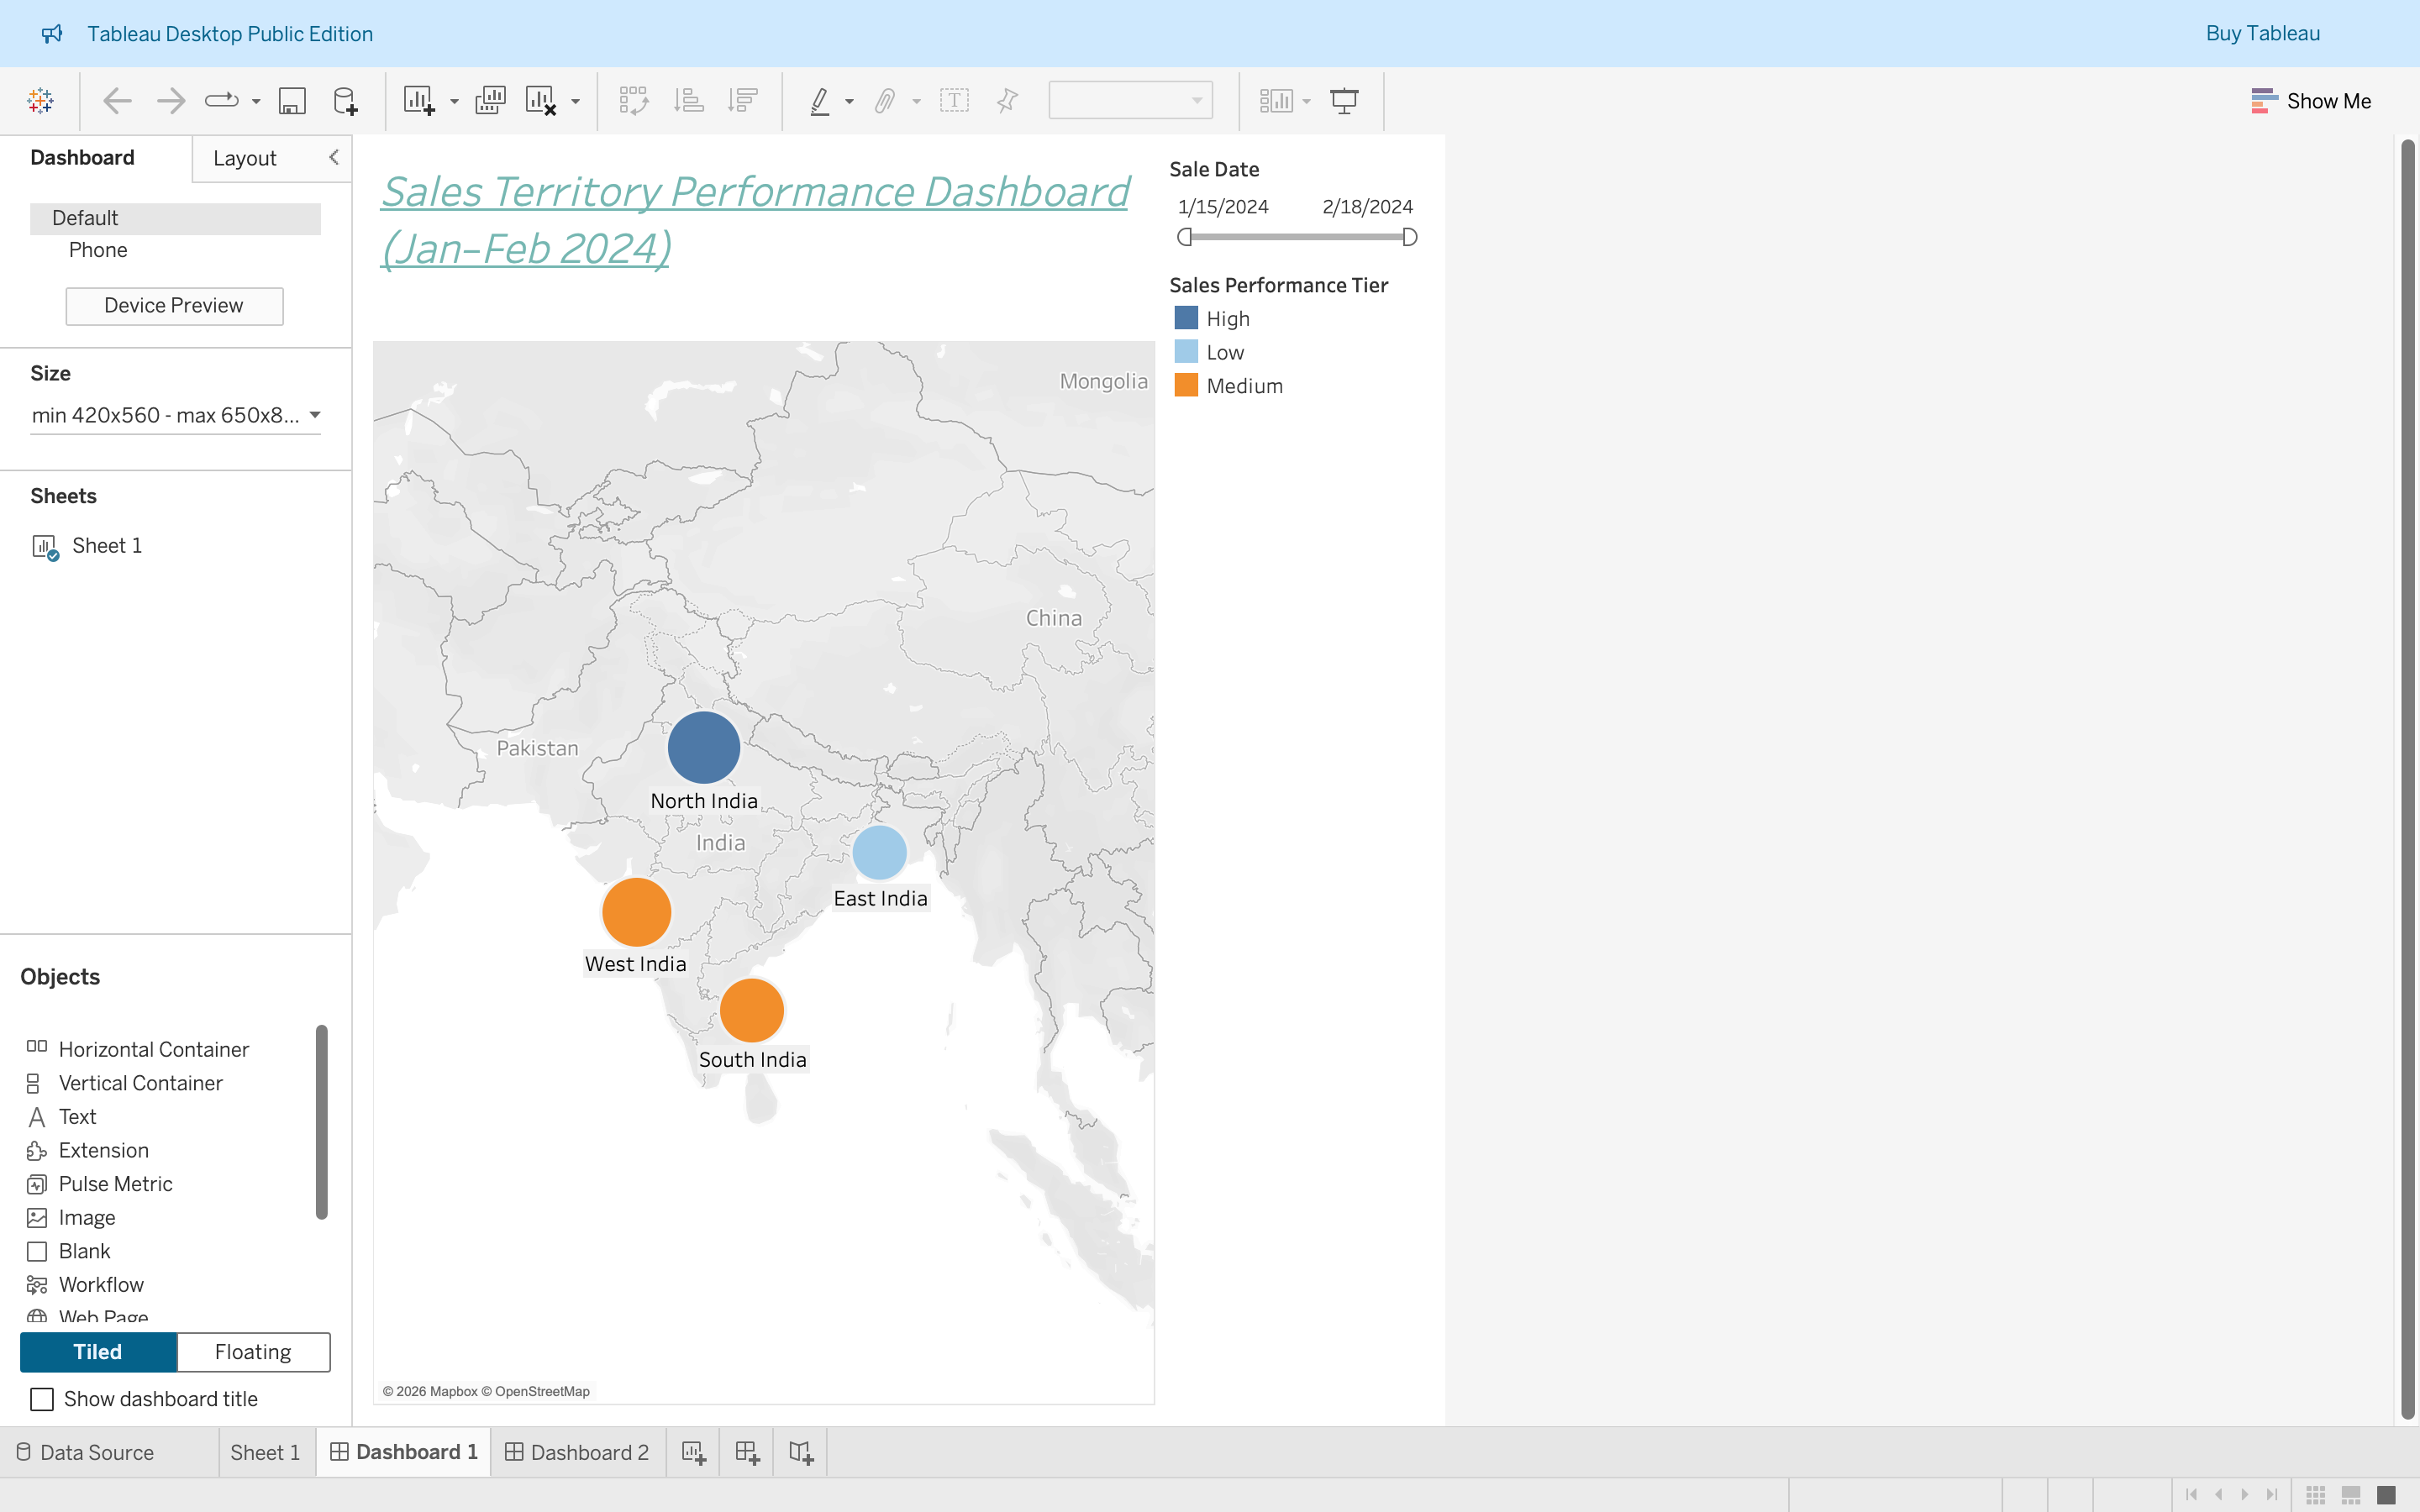

What the dashboard file says about the page in this screenshot:
{"tool":"tableau","page":{"name":"Dashboard 1","canvas":[650,860],"ordinal":0},"visuals":[{"type":"worksheet","title":"Sheet 1","mark":"Automatic","rows":["latitude"],"cols":["longitude"],"box":[8,10.5,474,839]},{"type":"filter","title":"Sheet 1","param":"[federated.1i88gi90s3d9081h2u30714t1l09].[none:sale_date:qk]","box":[482,10.5,160,90.7]},{"type":"legend","title":"Sheet 1","param":"[federated.1i88gi90s3d9081h2u30714t1l09].[none:Calculation_2116128896607264768:n","box":[482,101.2,160,113.1]}]}

Visuals, with their boxes on the page's 650x860 design canvas (x1, y1, x2, y2). These are canvas units, not pixel positions in the 2420x1512 screenshot, which may show the page scaled, cropped or inside an application window:
"Sheet 1" worksheet: Rect(8, 10, 482, 850)
"Sheet 1" filter: Rect(482, 10, 642, 101)
"Sheet 1" legend: Rect(482, 101, 642, 214)
